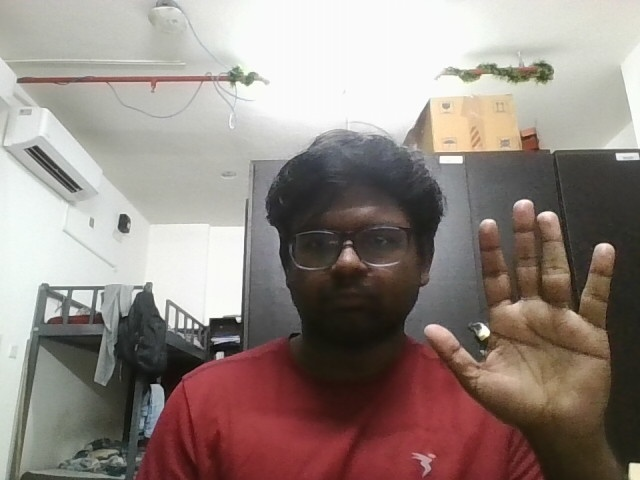Hello: (420, 190, 626, 449)
